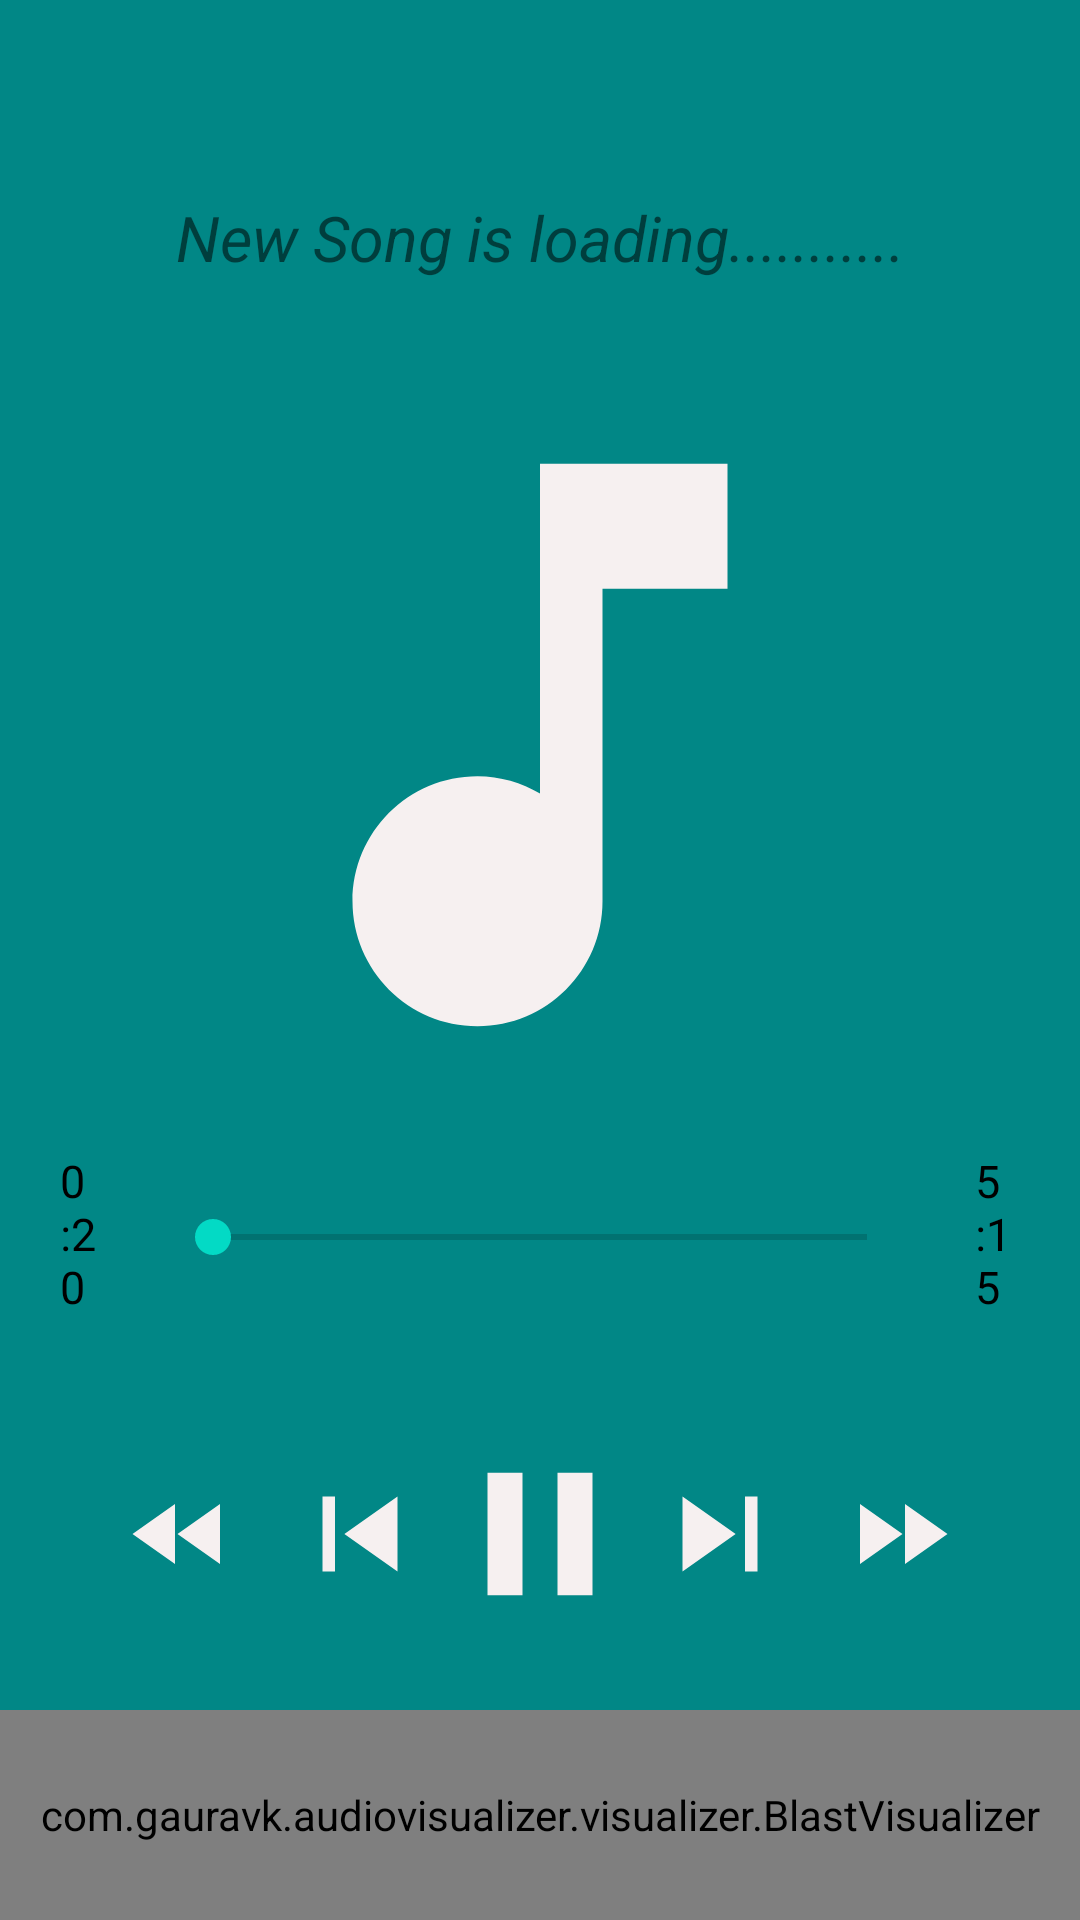

Named icons in this screenshot (1080×1920) and their bounding boxes, (x1=x1, y1=y1, x2=x2, y2=y2):
fast forward: (x1=860, y1=1504, x2=947, y2=1564)
fast rewind: (x1=133, y1=1504, x2=220, y2=1564)
pause: (x1=487, y1=1472, x2=593, y2=1596)
skip next: (x1=682, y1=1496, x2=758, y2=1572)
skip previous: (x1=322, y1=1496, x2=398, y2=1572)
